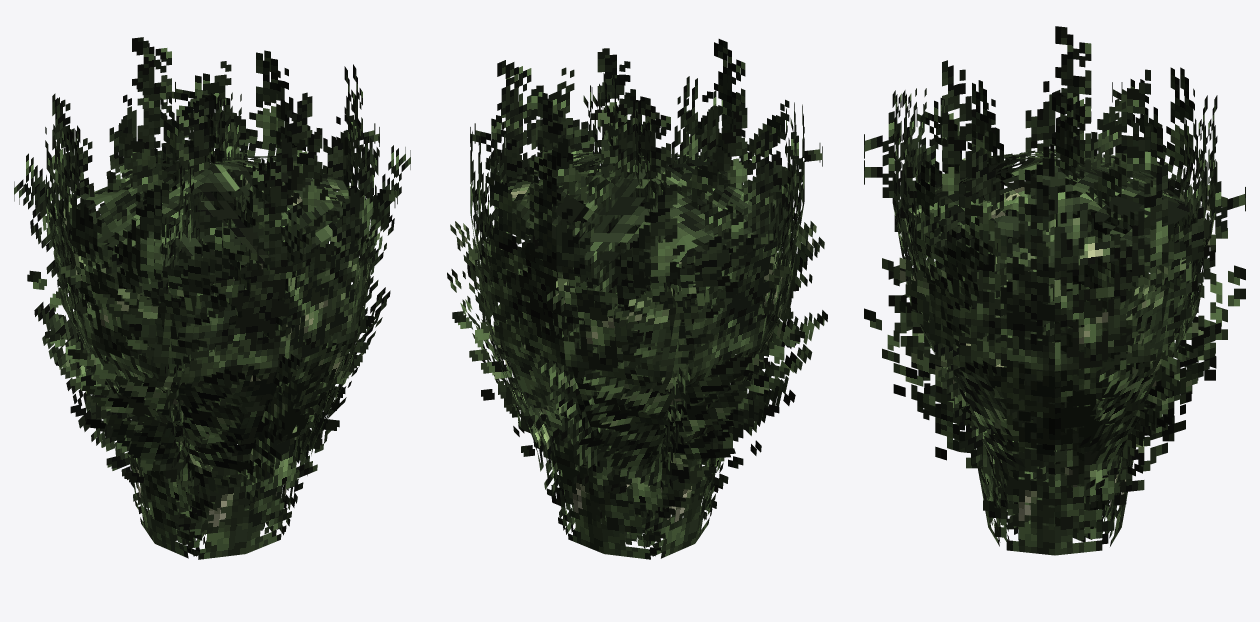
File: bush08_spring.glb
3 views of the same model, side by side, from view 1: azimuth 30°, elevation 25°; view 2: azimuth 150°, elevation 25°; view 3: azimuth 270°, elevation 25° (orthographic).
Parts seen in each view (by area): view 1: bush08; view 2: bush08; view 3: bush08.
Part boxes in pixels (left/top/right/bottom): bush08: left=14, top=37, right=410, bottom=559; bush08: left=447, top=39, right=827, bottom=559; bush08: left=864, top=26, right=1245, bottom=555.
Bounding box in the file's own units: 1.2 × 1.5 × 1.2.
Materials: 1 (1 with a texture image).
